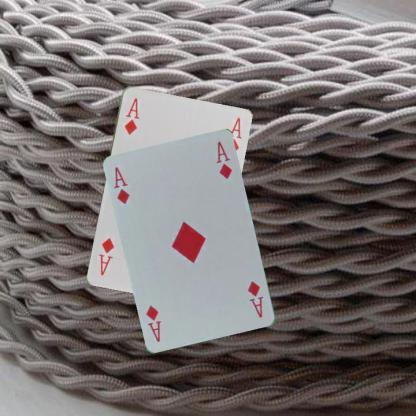Ad: (245, 278, 265, 320), (121, 95, 141, 135), (112, 164, 131, 206)
